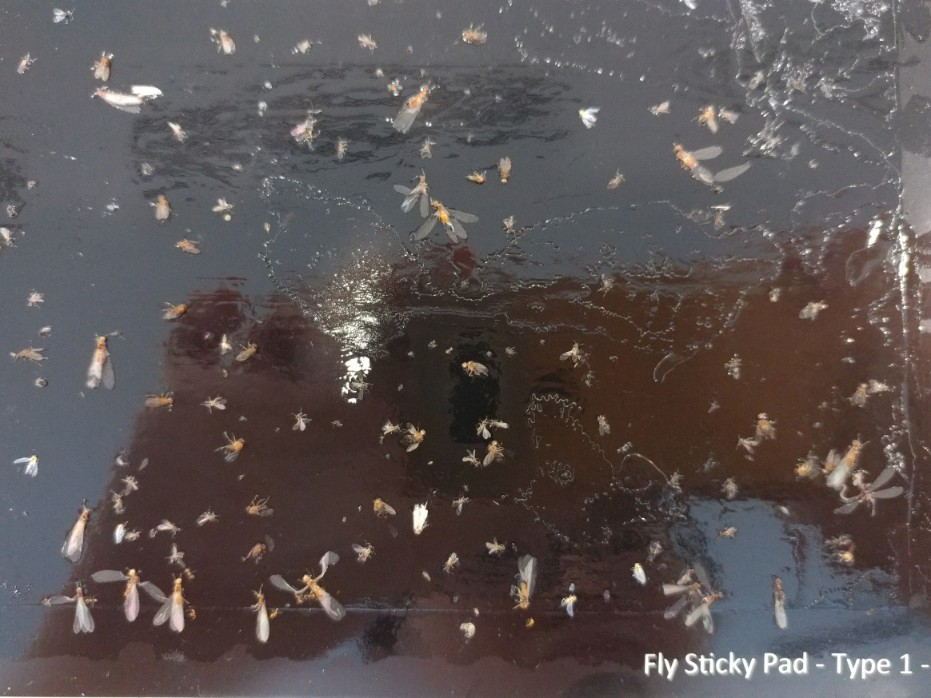flying termite: (262, 558, 359, 627), (89, 566, 163, 633), (667, 138, 748, 191), (84, 72, 174, 118), (387, 70, 443, 135), (52, 498, 104, 563), (245, 581, 282, 651), (84, 330, 124, 392), (158, 574, 194, 630), (400, 167, 430, 210)
